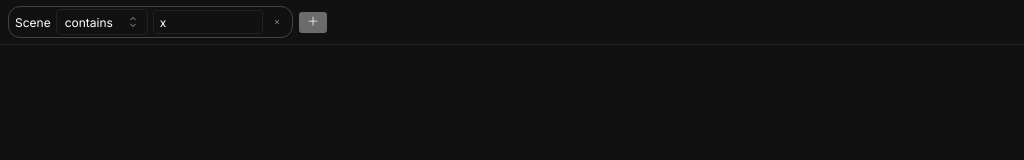
Test: TrackerGridFilters › offers only fields that are not already filtered
Click the button named "Filter" at [313, 22], box [299,12,327,32]
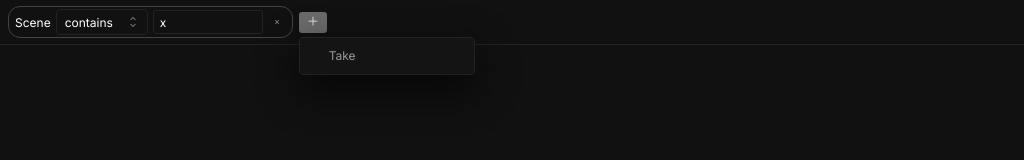
Expected: the menu does not show "Scene"
Now the menu reads "Take", box [304,42,470,70]
